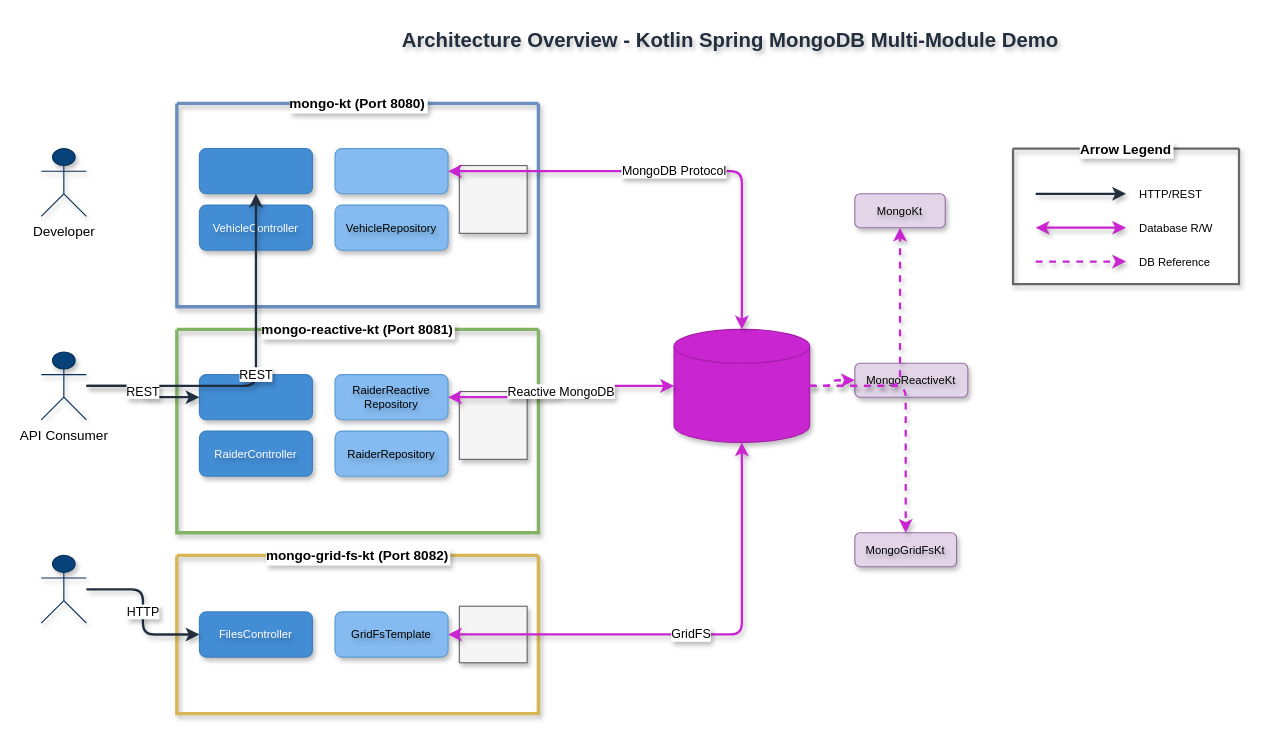
This 1266x742 diagram has some shape labels left out. Each missing label, with the centre of its shape:
Browser User: point 64,590
index.html (Web UI): point 494,636
MongoDB localhost:27017: point 742,387
Person, Vehicle Address: point 494,200
PersonController: point 256,172
PersonRepository: point 392,172
Raider Flux/Mono: point 494,426
RaiderReactive Controller: point 256,398
